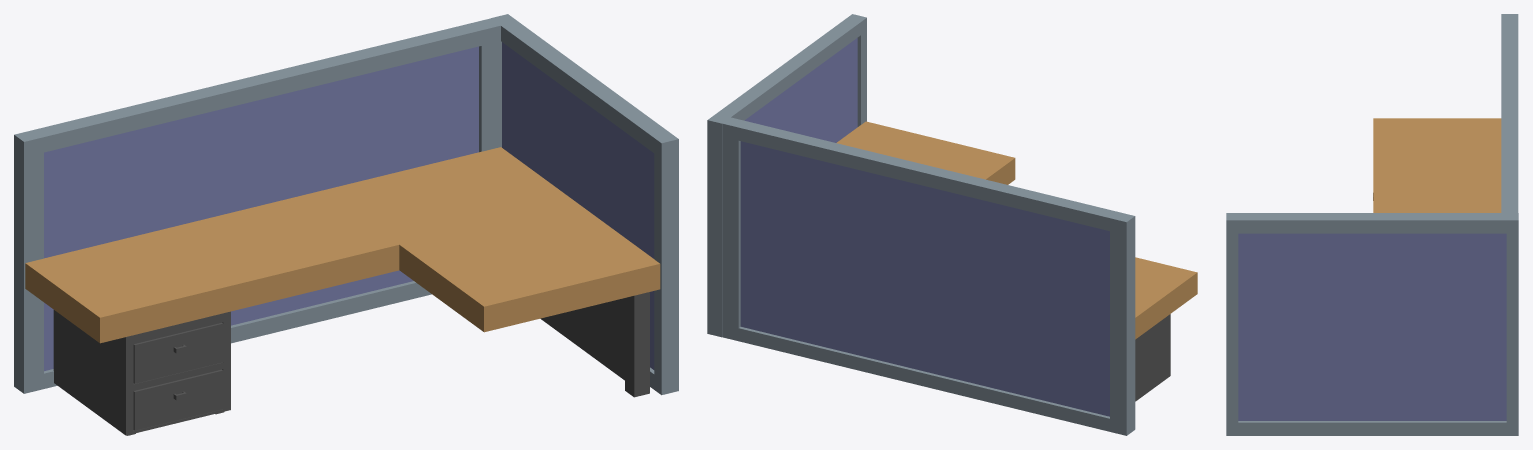
Rendered from Desk.fbx.
3 renders of one model, left to right at view 1: azimuth 30°, elevation 25°; view 2: azimuth 150°, elevation 25°; view 3: azimuth 270°, elevation 25°, orthographic. The views are drawn at different scales.
Visible parts, largest first — view 1: Cube.206; view 2: Cube.206; view 3: Cube.206.
Part boxes in pixels (box(x1,y1,x2,y2)): Cube.206: box(14, 14, 678, 435); Cube.206: box(707, 14, 1197, 435); Cube.206: box(1226, 14, 1518, 435).
Size of the model in its own units: 762 by 372 by 457.
